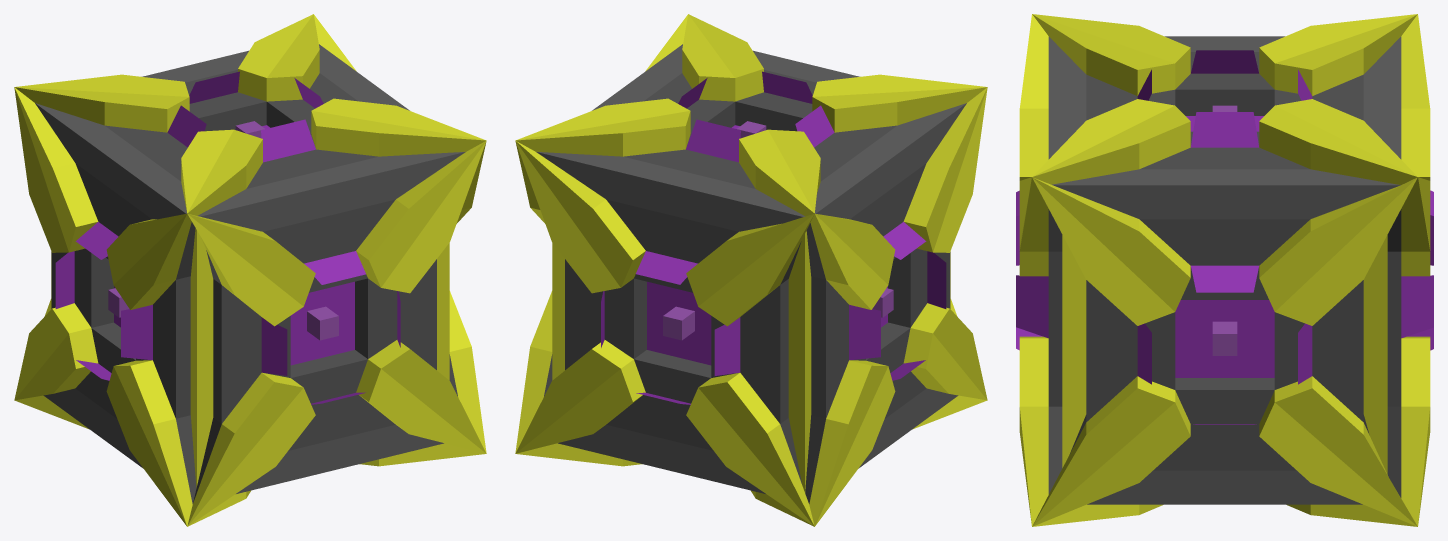
Rendered from Tesseract.fbx.
3 renders of one model, left to right at view 1: azimuth 30°, elevation 25°; view 2: azimuth 150°, elevation 25°; view 3: azimuth 270°, elevation 25°, orthographic. The views are drawn at different scales.
Visible parts, largest first — view 1: PowerCube; view 2: PowerCube; view 3: PowerCube.
Part boxes in pixels (x1=…): PowerCube: x1=14, y1=14, x2=486, y2=526; PowerCube: x1=515, y1=14, x2=987, y2=526; PowerCube: x1=1016, y1=14, x2=1433, y2=526.
Bounding box in the file's own units: 237 × 237 × 237.
